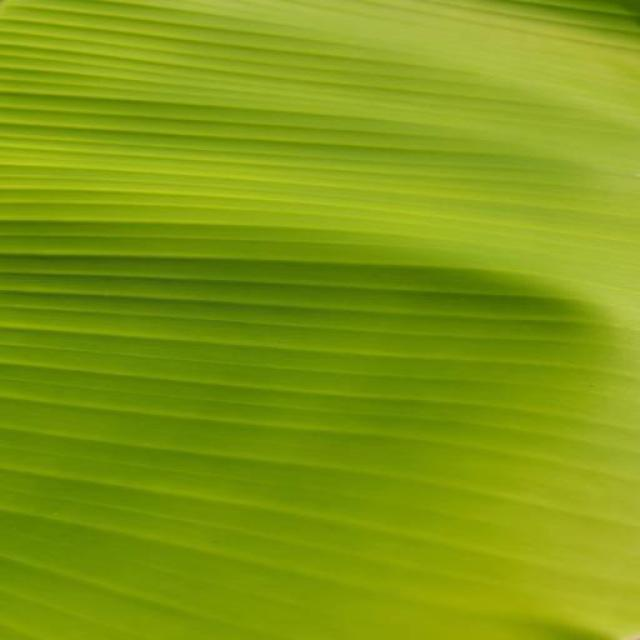Black_leaf_spot: (0, 0, 620, 586)
